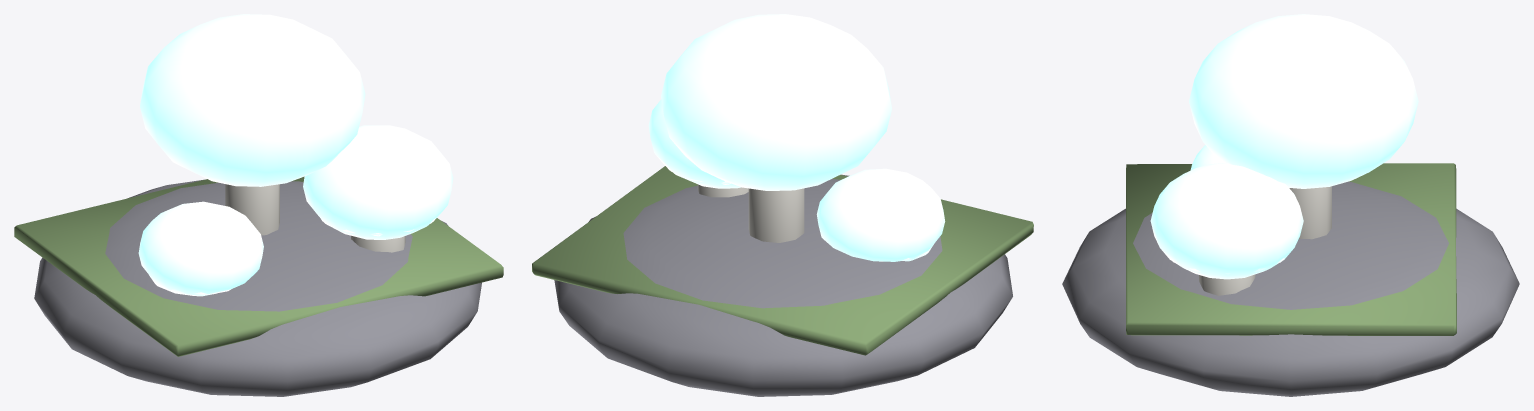
The model's file is cave_mushroom.glb.
3 renders of one model, left to right at view 1: azimuth 30°, elevation 25°; view 2: azimuth 150°, elevation 25°; view 3: azimuth 270°, elevation 25°, orthographic. The views are drawn at different scales.
Visible parts, largest first — view 1: cave_mushroom; view 2: cave_mushroom; view 3: cave_mushroom.
Part boxes in pixels (left/top/right/bottom): cave_mushroom: left=14, top=14, right=503, bottom=396; cave_mushroom: left=532, top=14, right=1033, bottom=396; cave_mushroom: left=1062, top=14, right=1519, bottom=396.
Size of the model in its own units: 0.7168 by 0.542 by 0.7169.
